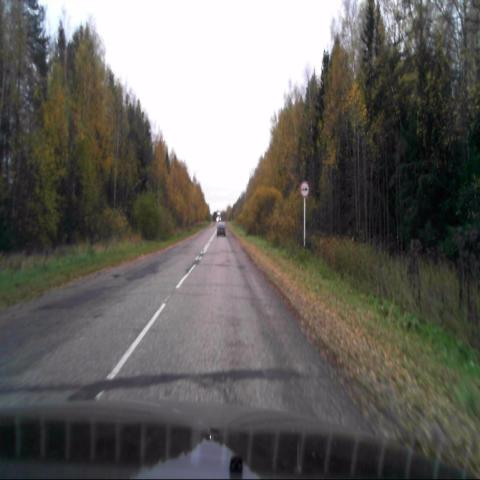3_20: (300, 180, 309, 196)
